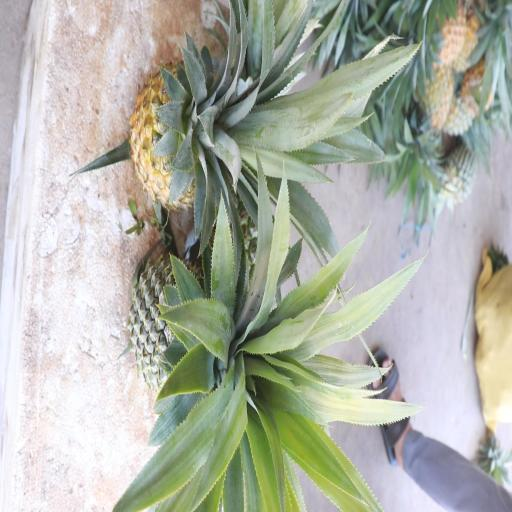Pineapple - v8 v1: (125, 39, 308, 214)
